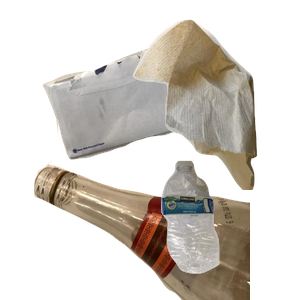glass: (31, 120, 271, 300)
paper: (40, 35, 249, 187)
plastic: (159, 158, 300, 300)
trash: (131, 17, 300, 197)
